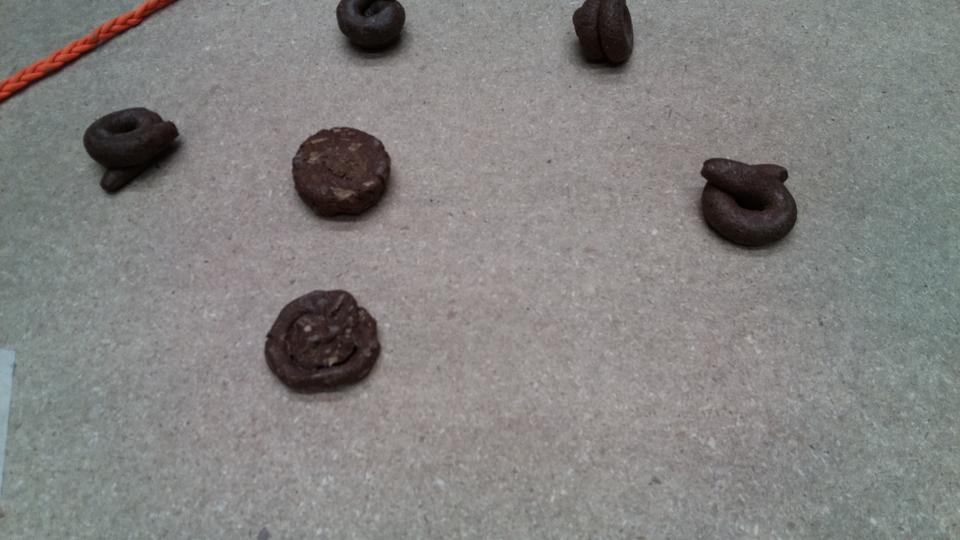poop: (260, 282, 387, 399), (287, 121, 407, 226), (698, 152, 803, 250), (83, 100, 182, 191), (331, 3, 417, 61), (568, 1, 643, 62)
rope: (9, 13, 142, 85)
